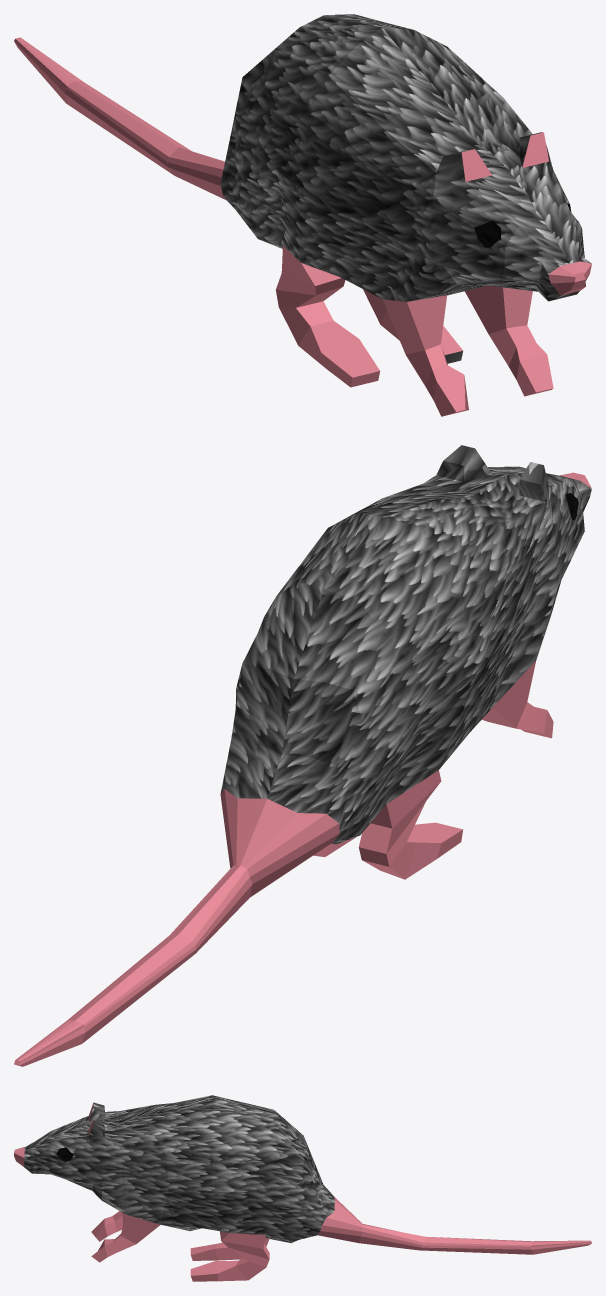
File: Ratatatataa.fbx
The picture shows the model from 3 angles, top to bottom: view 1: azimuth 30°, elevation 25°; view 2: azimuth 150°, elevation 25°; view 3: azimuth 270°, elevation 25°; orthographic projection. The views are drawn at different scales.
Parts seen in each view (by area): view 1: Cube; view 2: Cube; view 3: Cube.
Boxes of the visible parts, x1,y1,x2,y2 form: Cube: [14, 14, 591, 416]; Cube: [14, 445, 591, 1066]; Cube: [14, 1095, 591, 1281].
Size of the model in its own units: 191 by 342 by 1062.
3 materials, 1 textured.
